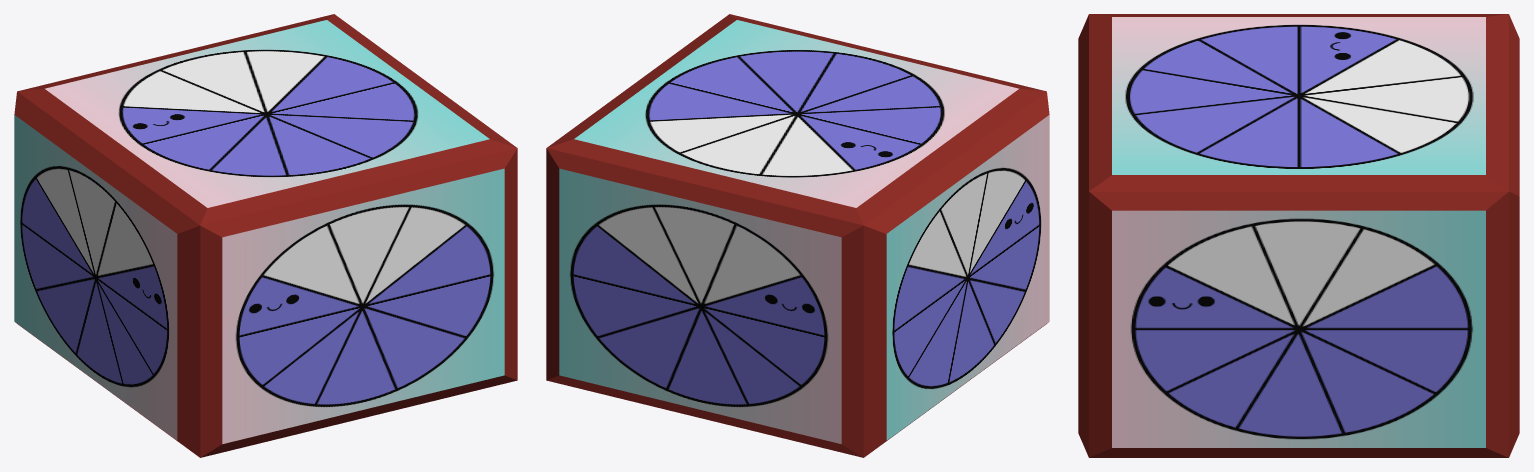
Rendered from Fracciones siete decimos.fbx.
3 views of the same model, side by side, from view 1: azimuth 30°, elevation 25°; view 2: azimuth 150°, elevation 25°; view 3: azimuth 270°, elevation 25° (orthographic). The views are drawn at different scales.
Visible parts, largest first — view 1: 7/10; view 2: 7/10; view 3: 7/10.
Part boxes in pixels (x1,y1,x2,y2): 7/10: [14, 14, 517, 457]; 7/10: [546, 14, 1049, 457]; 7/10: [1078, 14, 1519, 457].
Bounding box in the file's own units: 213 × 147 × 210.
2 materials, 1 textured.
